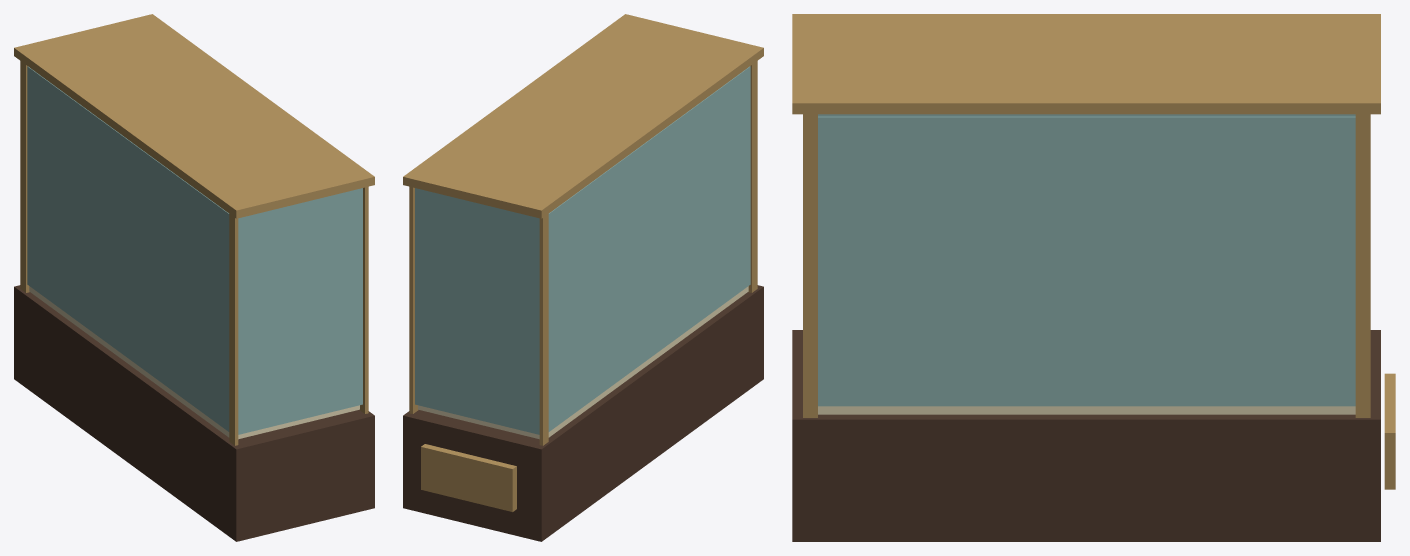
File: LP_NaturalHistory_WallCase.fbx
The picture shows the model from 3 angles, left to right: view 1: azimuth 30°, elevation 25°; view 2: azimuth 150°, elevation 25°; view 3: azimuth 270°, elevation 25°; orthographic projection. The views are drawn at different scales.
Parts seen in each view (by area): view 1: M_Museum_DisplayGlass, AgedBrass, Walnut, WarmIvory; view 2: M_Museum_DisplayGlass, AgedBrass, Walnut, WarmIvory; view 3: M_Museum_DisplayGlass, Walnut, AgedBrass, WarmIvory.
Part boxes in pixels (x1=…): M_Museum_DisplayGlass: x1=27, y1=66, x2=362, y2=434; AgedBrass: x1=14, y1=14, x2=374, y2=445; Walnut: x1=14, y1=285, x2=374, y2=541; WarmIvory: x1=29, y1=286, x2=359, y2=439; M_Museum_DisplayGlass: x1=415, y1=66, x2=750, y2=434; AgedBrass: x1=403, y1=14, x2=763, y2=511; Walnut: x1=403, y1=285, x2=763, y2=541; WarmIvory: x1=418, y1=286, x2=748, y2=439; M_Museum_DisplayGlass: x1=818, y1=114, x2=1355, y2=406; Walnut: x1=792, y1=330, x2=1380, y2=541; AgedBrass: x1=792, y1=14, x2=1395, y2=489; WarmIvory: x1=818, y1=406, x2=1355, y2=414.
Size of the model in its own units: 70 by 160 by 199.
